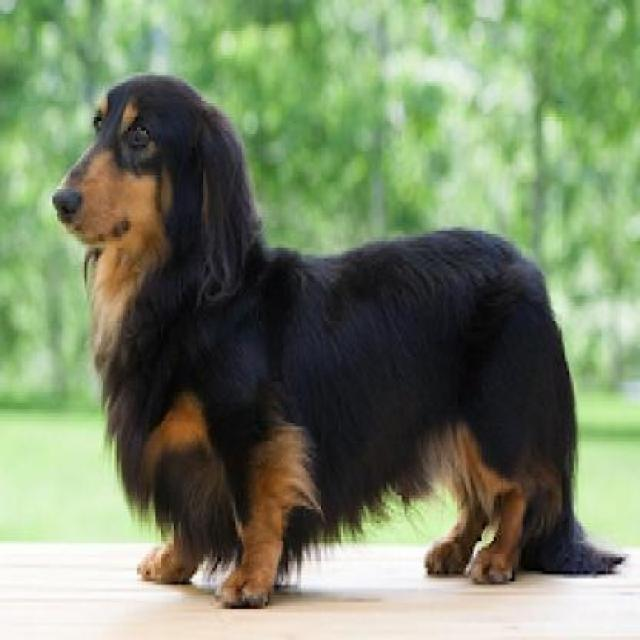Dog: (49, 67, 629, 618)
